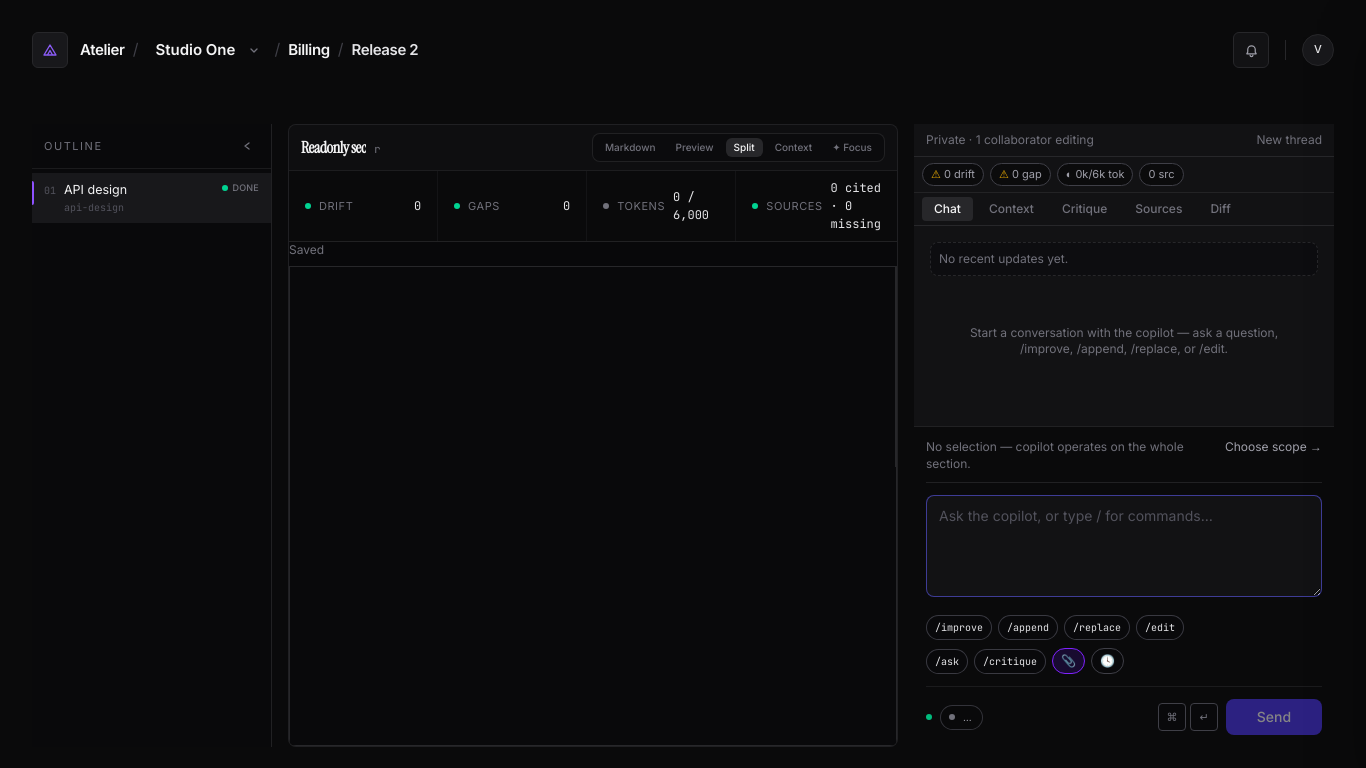
Test: SectionPage › viewer does not see context kind preference toggles
Expected: the heading "Readonly sec" is shown, [301, 138, 366, 158]
Click the tab "Context" in the row of "Readonly sec": (793, 148) [767, 138, 820, 157]
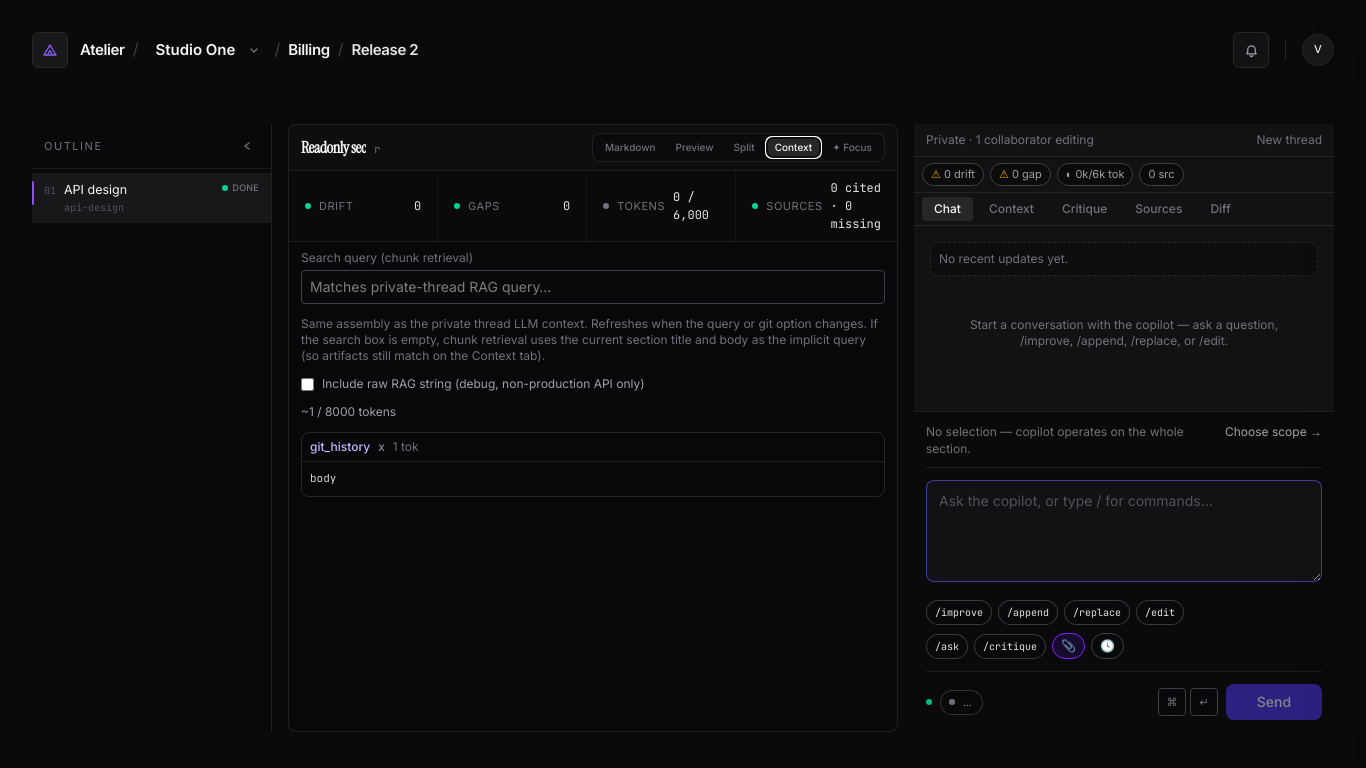
Result: the element with test id "context-tab" is shown at [289, 242, 897, 505]
